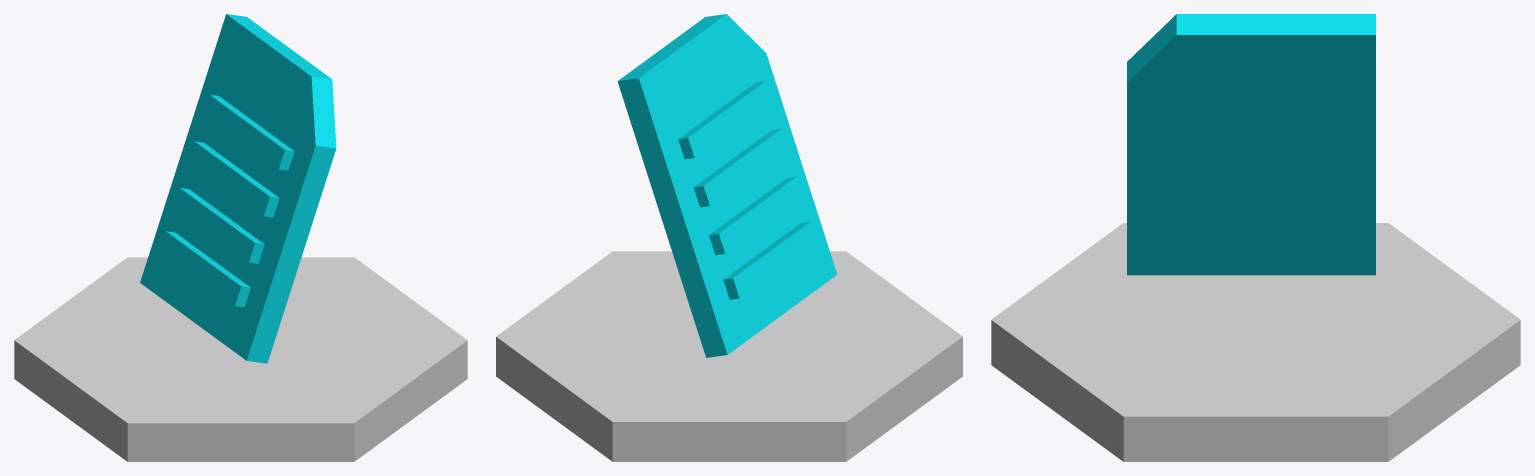
Rendered from mesh_token_3.fbx.
3 views of the same model, side by side, from view 1: azimuth 30°, elevation 25°; view 2: azimuth 150°, elevation 25°; view 3: azimuth 270°, elevation 25° (orthographic). The views are drawn at different scales.
Parts seen in each view (by area): view 1: mesh_tokenbase_3, mesh_document_1; view 2: mesh_tokenbase_3, mesh_document_1; view 3: mesh_tokenbase_3, mesh_document_1.
Boxes of the visible parts, x1,y1,x2,y2 form: mesh_tokenbase_3: (14, 257, 467, 461); mesh_document_1: (140, 14, 336, 363); mesh_tokenbase_3: (496, 251, 962, 461); mesh_document_1: (617, 14, 837, 357); mesh_tokenbase_3: (991, 223, 1520, 461); mesh_document_1: (1127, 14, 1375, 275).
Size of the model in its own units: 184 by 165 by 213.
